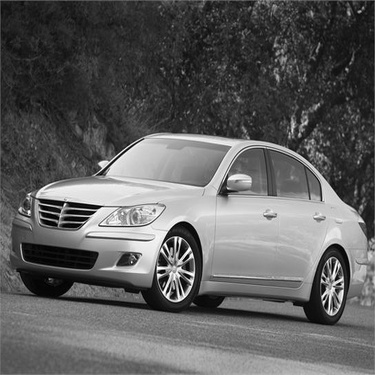car: (2, 120, 370, 326)
